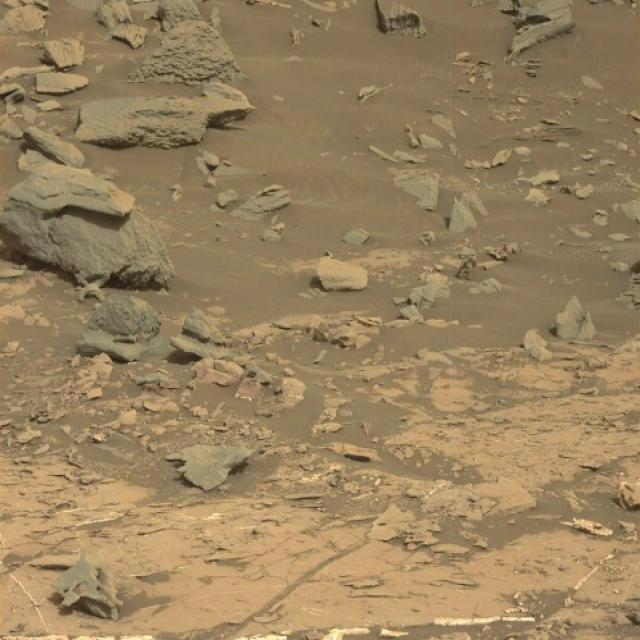mars-rocks: (75, 81, 254, 148), (76, 296, 161, 362), (55, 555, 122, 620), (166, 446, 254, 492), (376, 0, 427, 36), (317, 257, 368, 291), (44, 38, 84, 69), (35, 72, 88, 94), (96, 0, 132, 27), (111, 23, 147, 48)
